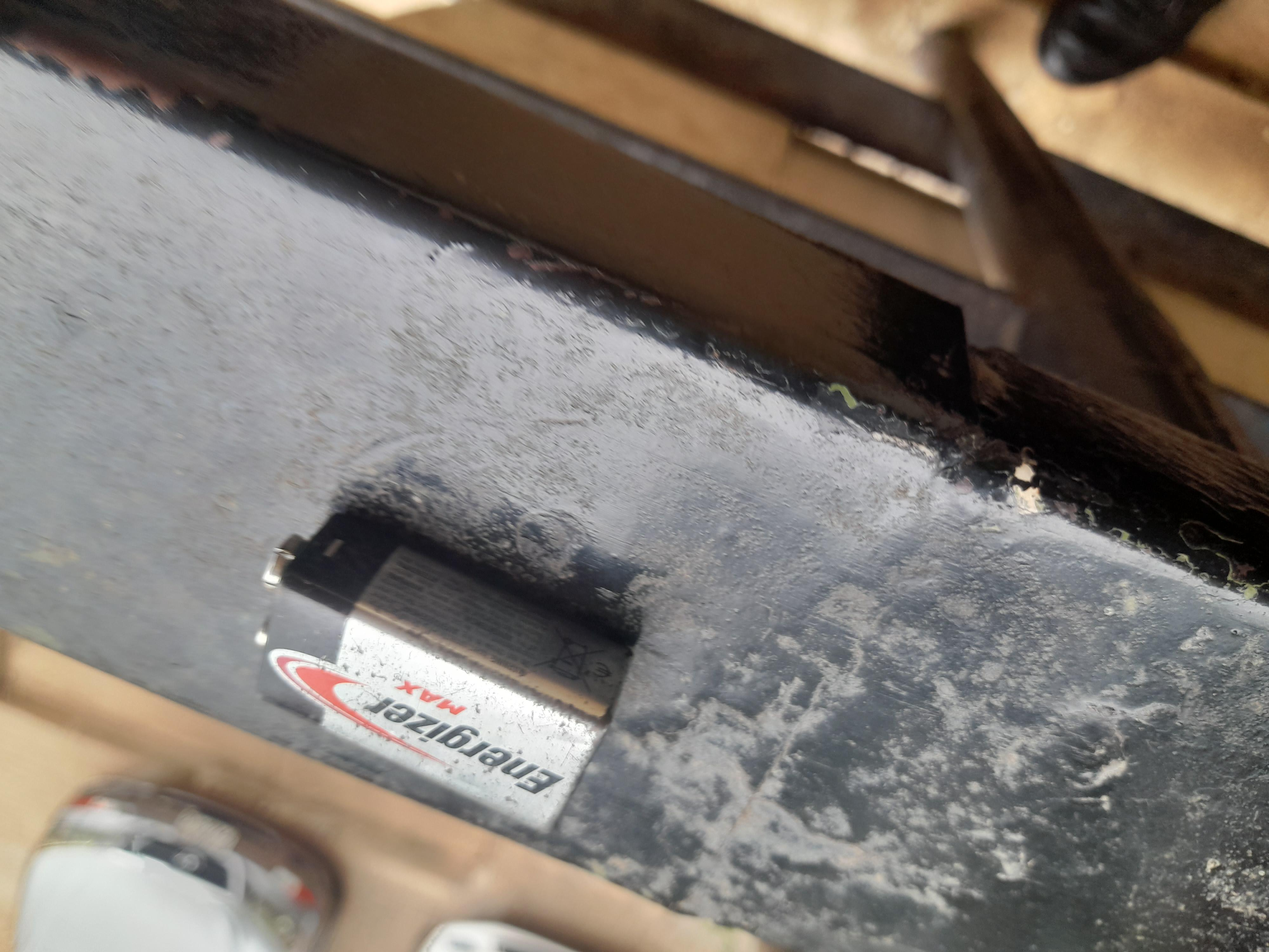9V: (613, 92, 1029, 470)
